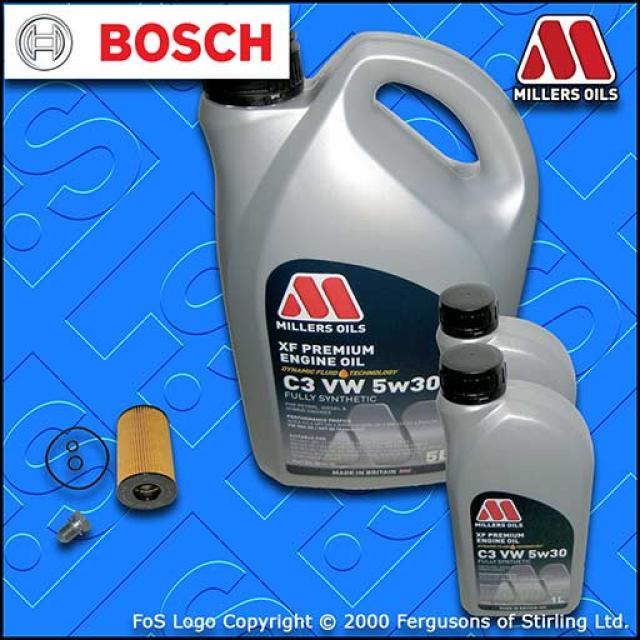motor_oil: (197, 80, 543, 491), (434, 354, 596, 612)
oil_filter: (115, 401, 177, 513)
